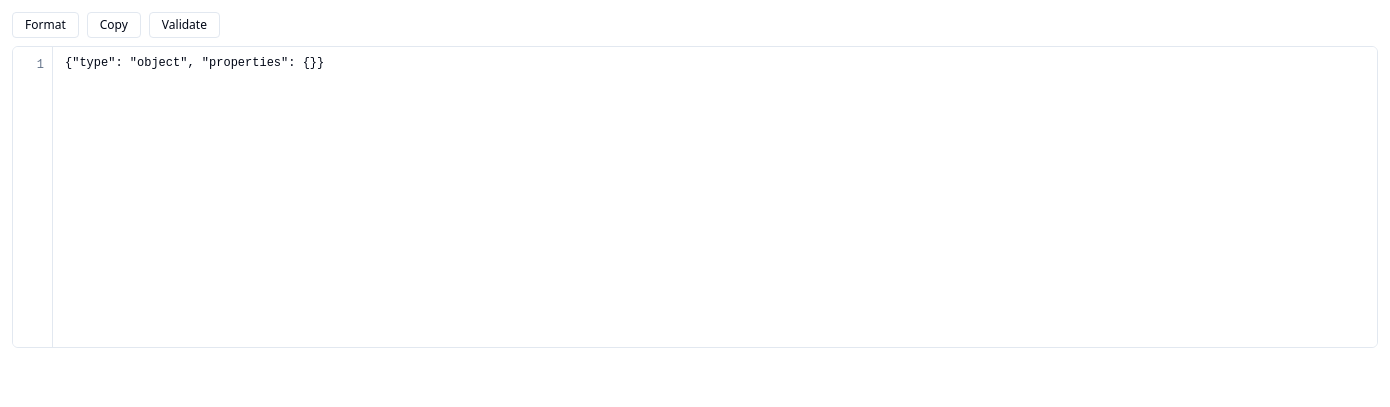
Test: SchemaJsonEditor › validates schema when requested
Click the button "Validate".
click(184, 25)  # box [149,12,220,38]
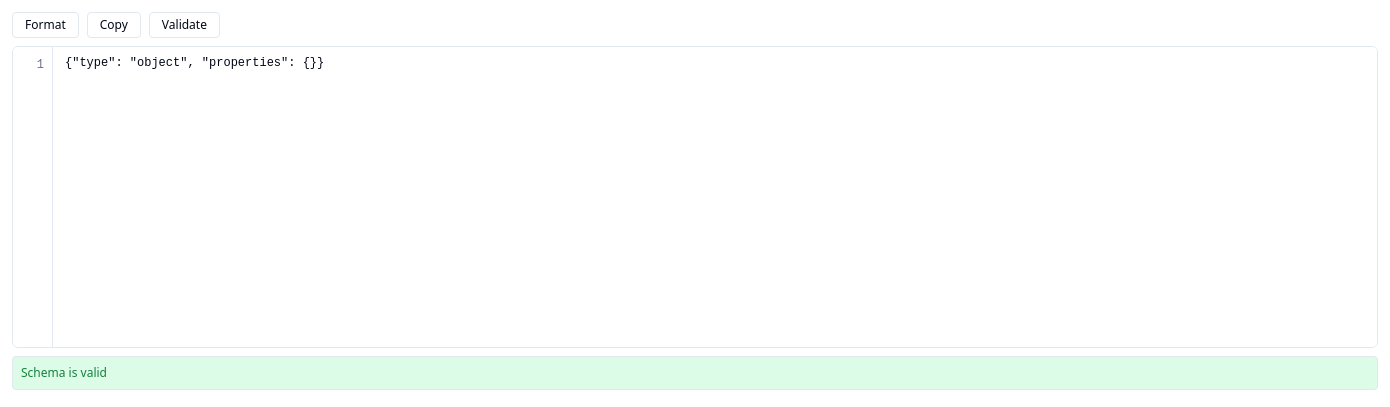
Check: the text "Schema is valid" is shown, box [21,364,107,381]
